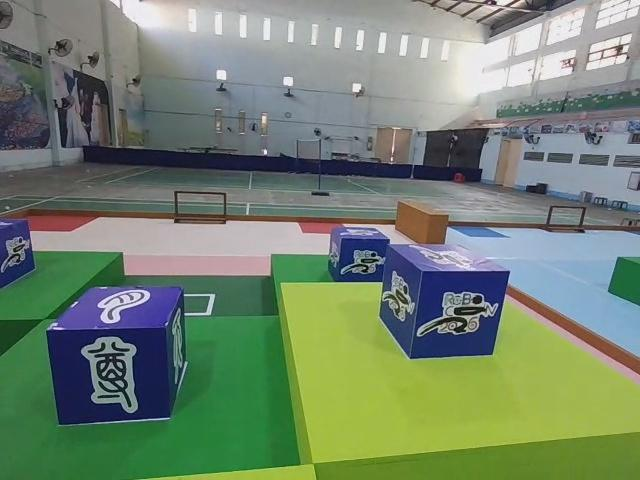R1 Blue: (378, 243, 508, 360), (328, 228, 390, 285), (0, 219, 34, 296)
R2 Fake Blue: (49, 286, 188, 431)
